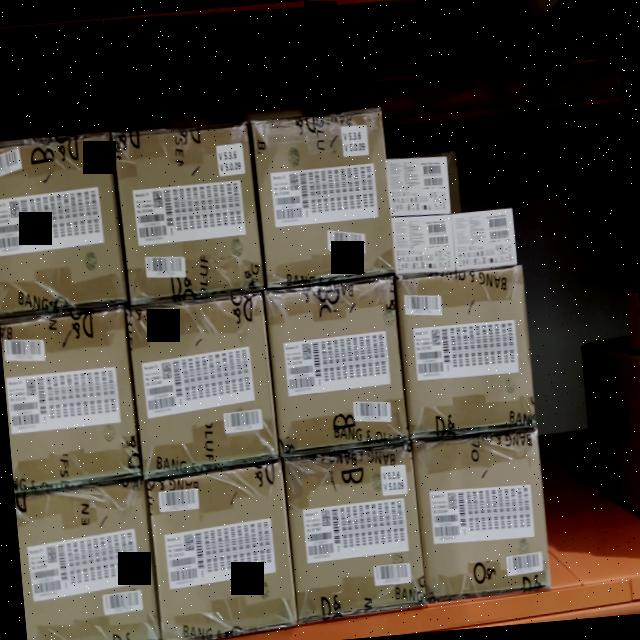box: (110, 120, 264, 306), (131, 294, 279, 478), (146, 468, 300, 638), (251, 106, 397, 284), (282, 442, 426, 616), (264, 276, 408, 448), (0, 128, 129, 317), (0, 300, 139, 473), (412, 428, 550, 600), (396, 264, 535, 434), (15, 480, 160, 640)
